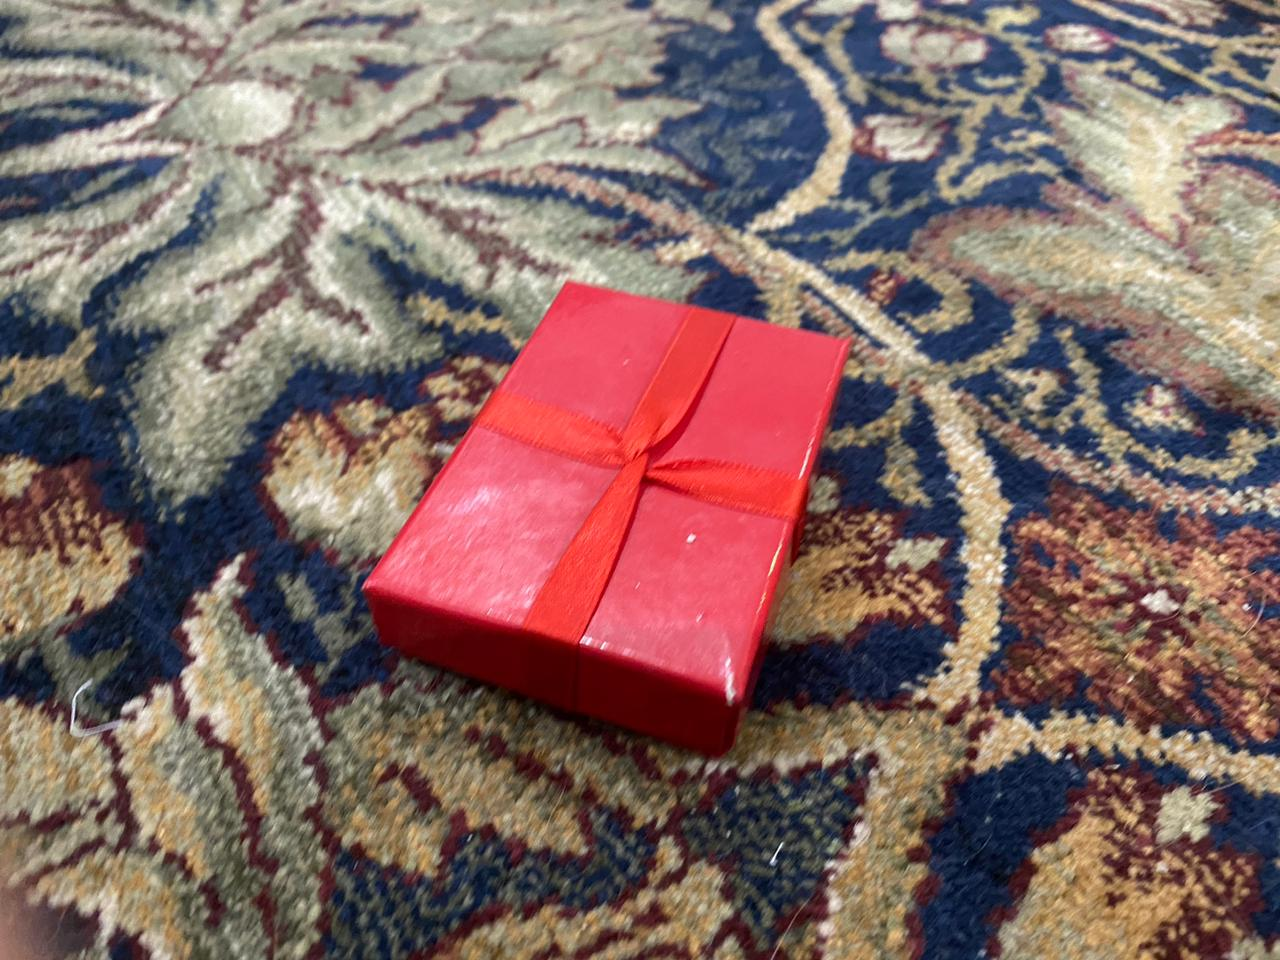Black Box: (340, 277, 855, 765)
